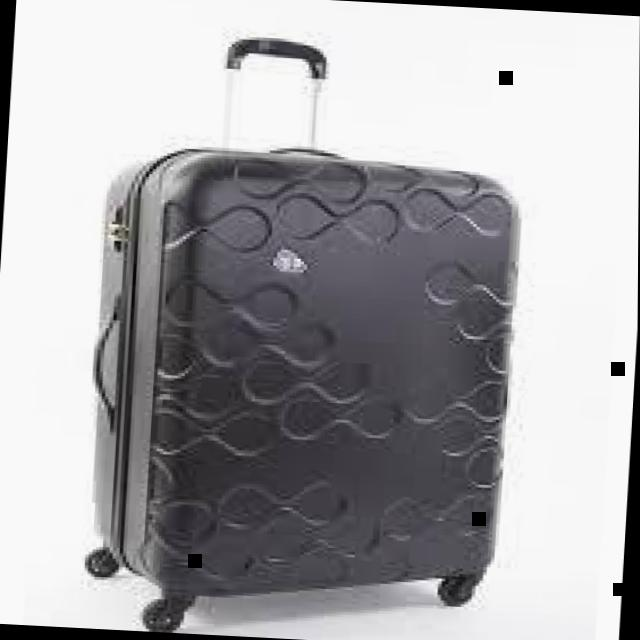luggage: (76, 130, 536, 616)
